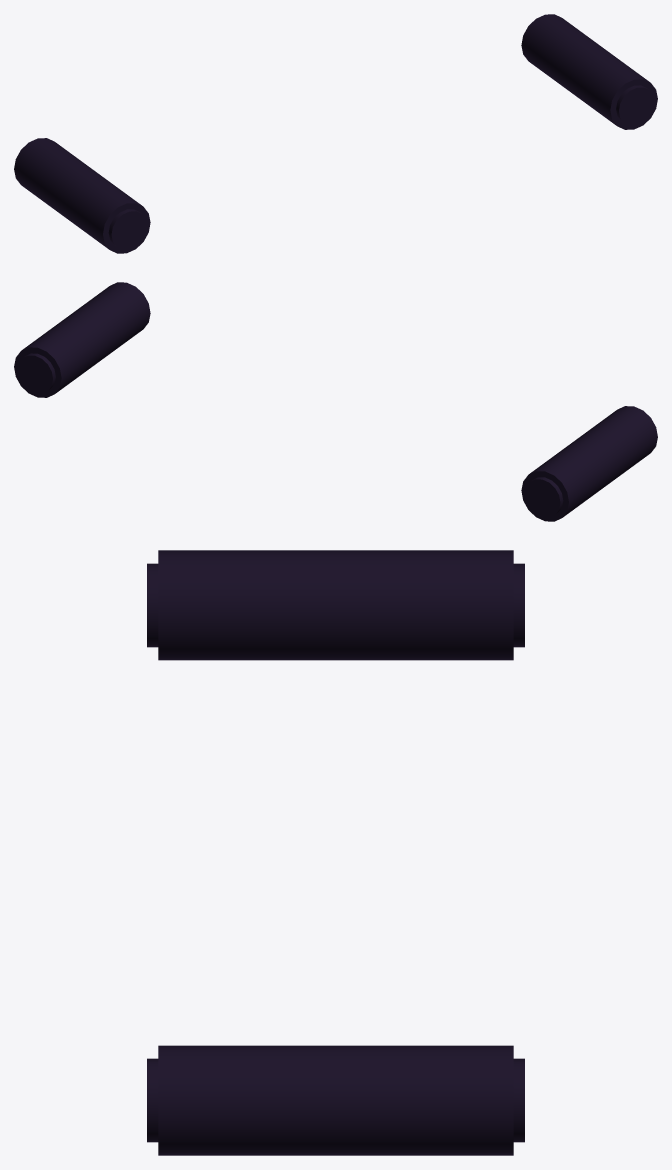
The model's file is Roll.fbx.
The picture shows the model from 3 angles, top to bottom: view 1: azimuth 30°, elevation 25°; view 2: azimuth 150°, elevation 25°; view 3: azimuth 270°, elevation 25°; orthographic projection. The views are drawn at different scales.
Visible parts, largest first — view 1: Cylinder, Cylinder.001; view 2: Cylinder, Cylinder.001; view 3: Cylinder, Cylinder.001.
Part boxes in pixels (<box>): Cylinder: <box>521,14,657,129</box>; Cylinder.001: <box>14,138,150,253</box>; Cylinder: <box>14,282,150,397</box>; Cylinder.001: <box>521,406,657,521</box>; Cylinder: <box>147,1045,524,1155</box>; Cylinder.001: <box>147,550,524,660</box>.
Bounding box in the file's own units: 503 × 43.23 × 148.
